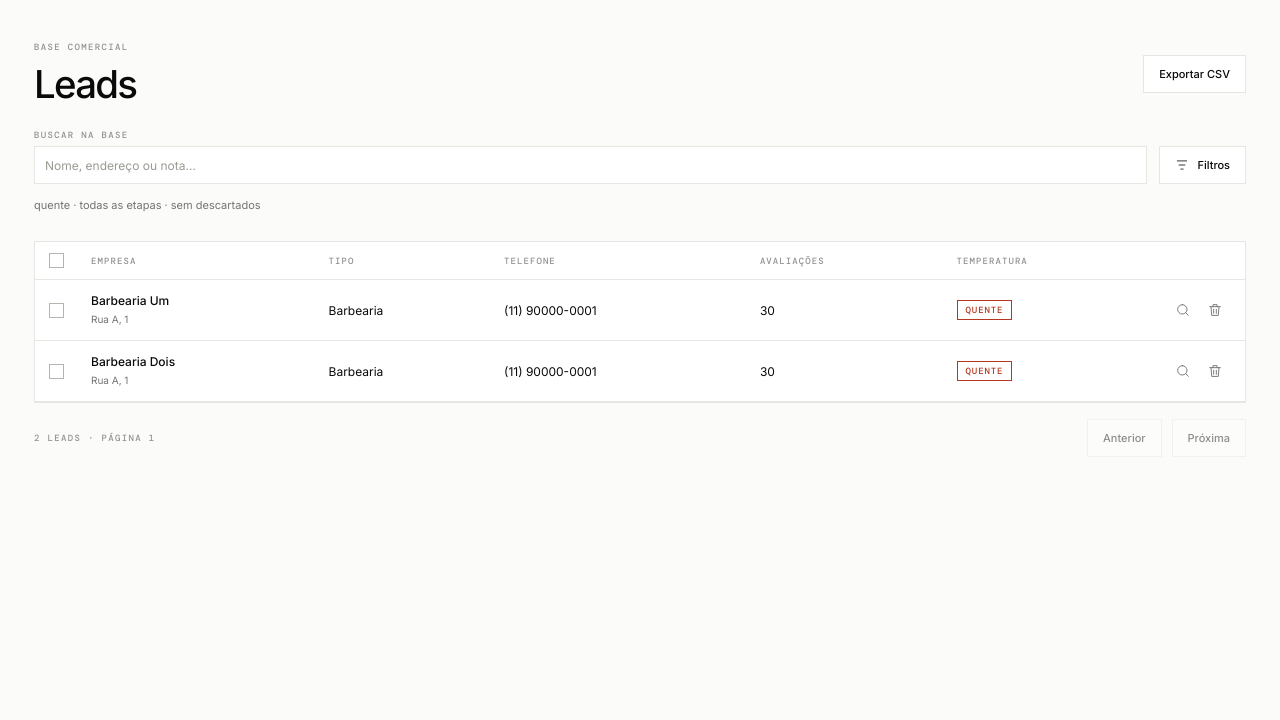
LeadsView — exclusão de leads › marcar a página inteira conta os dois
Expected: the text "Barbearia Um" is shown, x1=91 y1=293 x2=169 y2=308
Step 1. Click the checkbox named "todos os leads da página" → (56, 261), box x1=49 y1=253 x2=64 y2=268
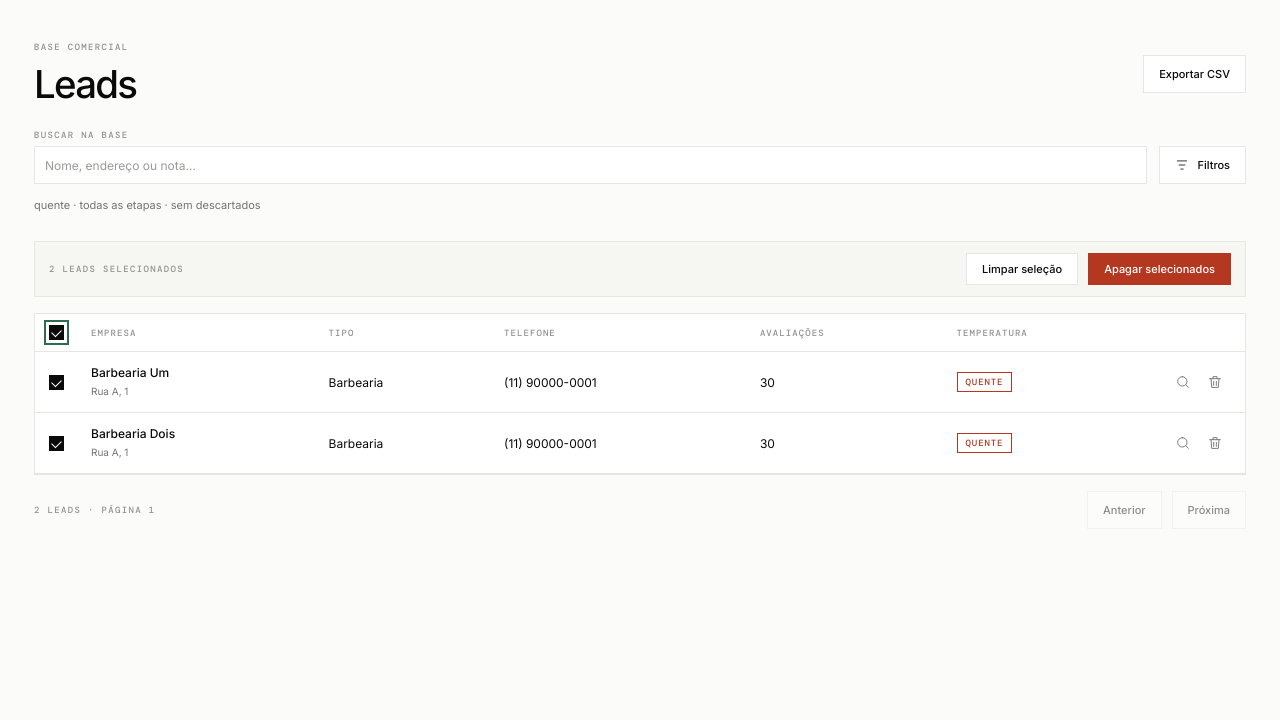
Expected: the text "2 leads selecionados" is shown, x1=49 y1=265 x2=184 y2=274
